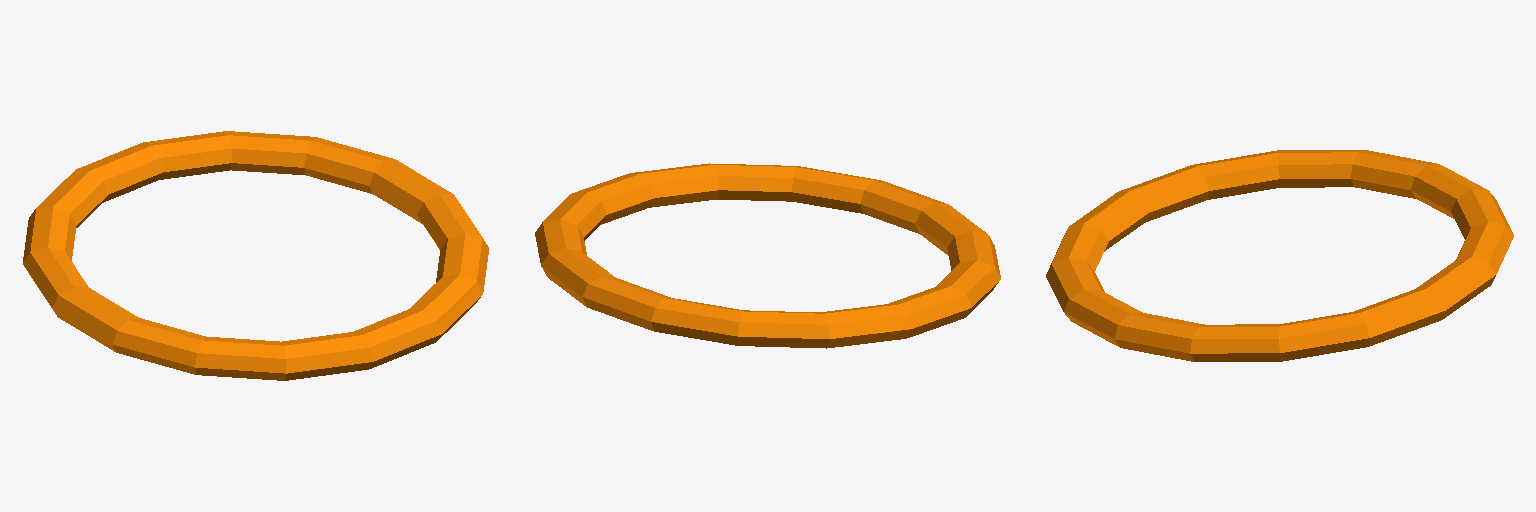
File: halo_angel_basic.obj
3 renders of one model, left to right at view 1: azimuth 30°, elevation 25°; view 2: azimuth 150°, elevation 25°; view 3: azimuth 270°, elevation 25°, orthographic.
Visible parts, largest first — view 1: 0; view 2: 0; view 3: 0.
Boxes of the visible parts, x1,y1,x2,y2 form: 0: [23, 131, 488, 380]; 0: [535, 163, 1000, 348]; 0: [1046, 150, 1513, 361].
Bounding box in the file's own units: 0.38 × 0.0608 × 0.3783.